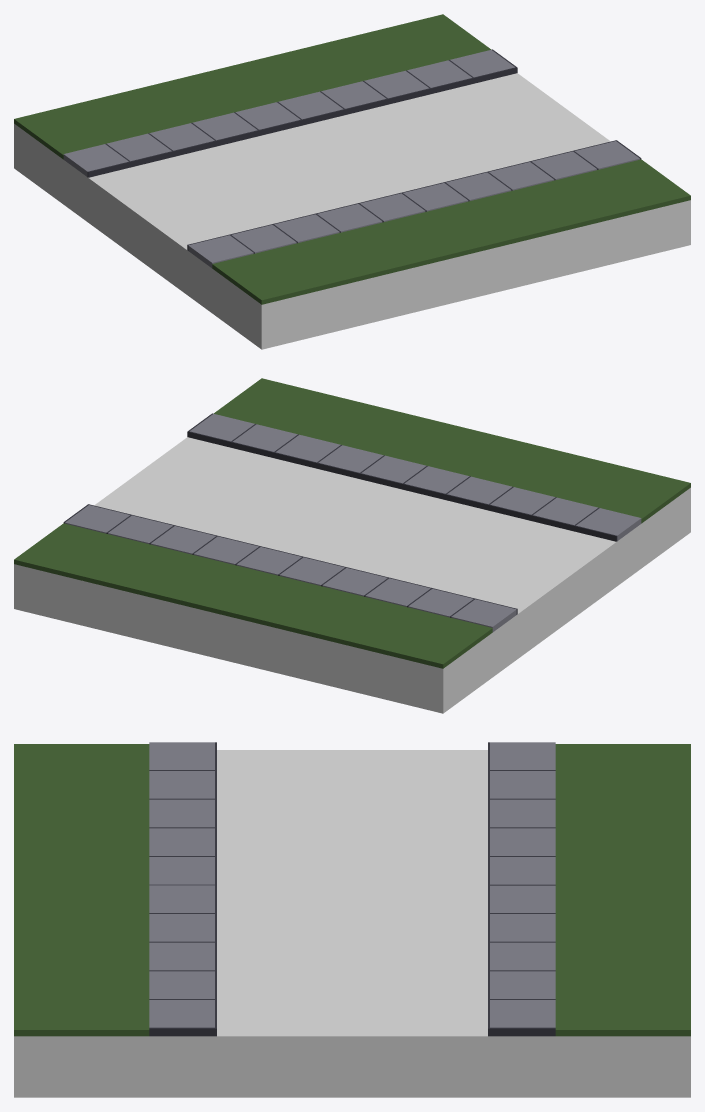
The model's file is Road1.fbx.
3 renders of one model, top to bottom at view 1: azimuth 30°, elevation 25°; view 2: azimuth 150°, elevation 25°; view 3: azimuth 270°, elevation 25°, orthographic. The views are drawn at different scales.
Parts seen in each view (by area): view 1: Road, Plane, Plane.001, Sidewalk, Sidewalk.001; view 2: Road, Plane.001, Plane, Sidewalk.001, Sidewalk; view 3: Road, Plane, Plane.001, Sidewalk, Sidewalk.001.
Part boxes in pixels (x1,y1,x2,y2): Road: (14,73,690,349); Plane: (212,159,690,304); Plane.001: (14,14,490,159); Sidewalk: (63,49,517,177); Sidewalk.001: (187,140,641,268); Road: (14,437,690,713); Plane.001: (14,523,492,668); Plane: (214,378,690,523); Sidewalk.001: (187,413,641,541); Sidewalk: (63,504,517,632); Road: (14,750,690,1097); Plane: (14,744,149,1036); Plane.001: (555,744,690,1036); Sidewalk: (488,742,555,1036); Sidewalk.001: (149,742,216,1036).
Bounding box in the file's own units: 2000 × 225 × 2000.
Materials: 3 (2 with a texture image).
